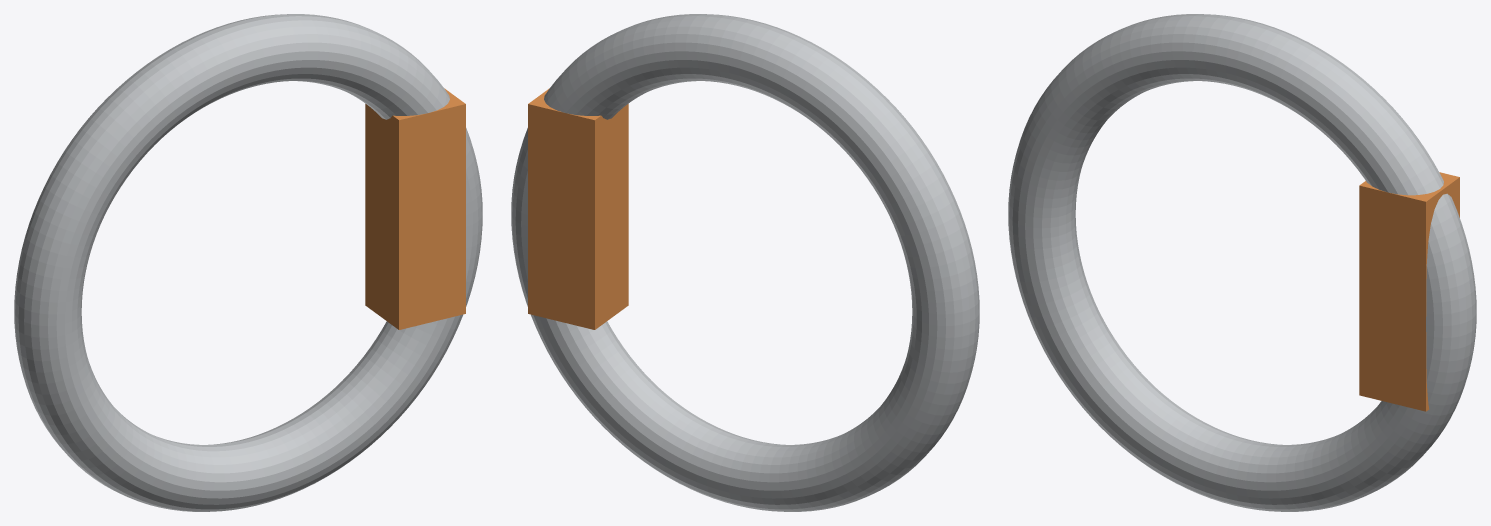
Rendered from carabiner.glb.
3 renders of one model, left to right at view 1: azimuth 30°, elevation 25°; view 2: azimuth 150°, elevation 25°; view 3: azimuth 330°, elevation 25°, orthographic.
Visible parts, largest first — view 1: part_0, part_1; view 2: part_0, part_1; view 3: part_0, part_1.
Boxes of the visible parts, x1,y1,x2,y2 form: part_0: (14,14,482,511); part_1: (365,88,465,329); part_0: (511,14,979,511); part_1: (528,88,628,329); part_0: (1008,14,1476,511); part_1: (1359,172,1459,411).
Size of the model in its own units: 0.55 by 0.55 by 0.07.
